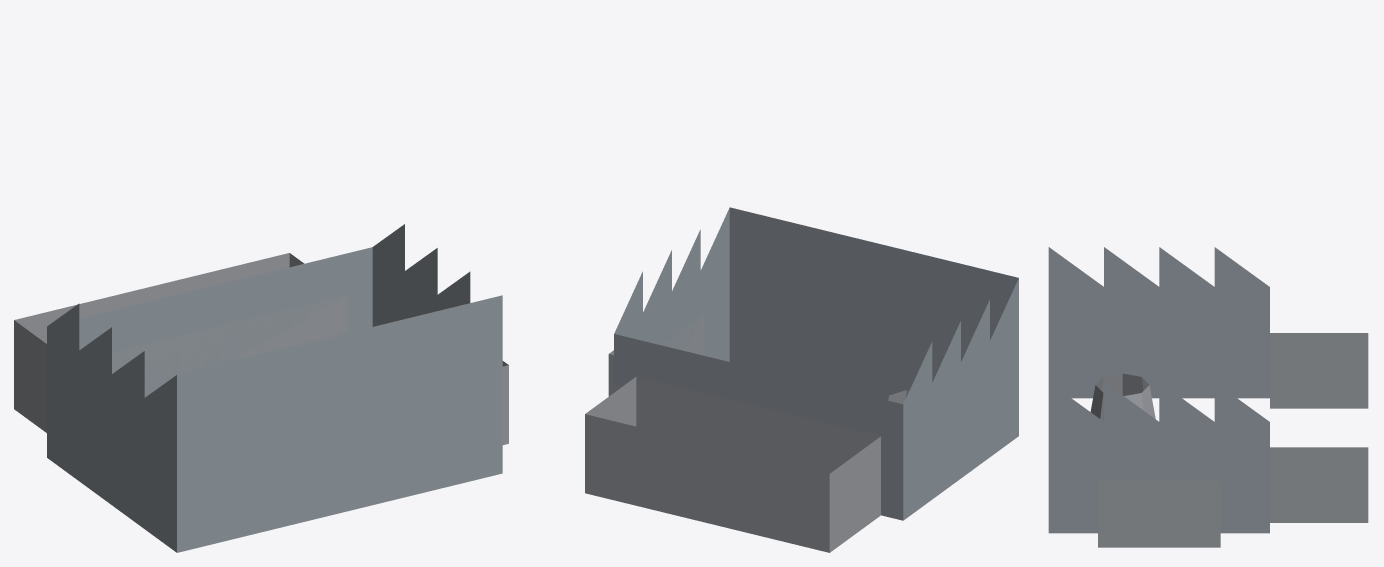
The model's file is Bld_I_med_L3_B.fbx.
3 renders of one model, left to right at view 1: azimuth 30°, elevation 25°; view 2: azimuth 150°, elevation 25°; view 3: azimuth 270°, elevation 25°, orthographic. The views are drawn at different scales.
Visible parts, largest first — view 1: Bld_I_med_L3_B_LOD0; view 2: Bld_I_med_L3_B_LOD0; view 3: Bld_I_med_L3_B_LOD0.
Part boxes in pixels (x1=…): Bld_I_med_L3_B_LOD0: x1=14, y1=224, x2=508, y2=552; Bld_I_med_L3_B_LOD0: x1=585, y1=207, x2=1018, y2=552; Bld_I_med_L3_B_LOD0: x1=1048, y1=247, x2=1368, y2=547.
Size of what is drawn, in the model's own units: 1497 by 1825 by 1314.
Materials: 1 (1 with a texture image).
